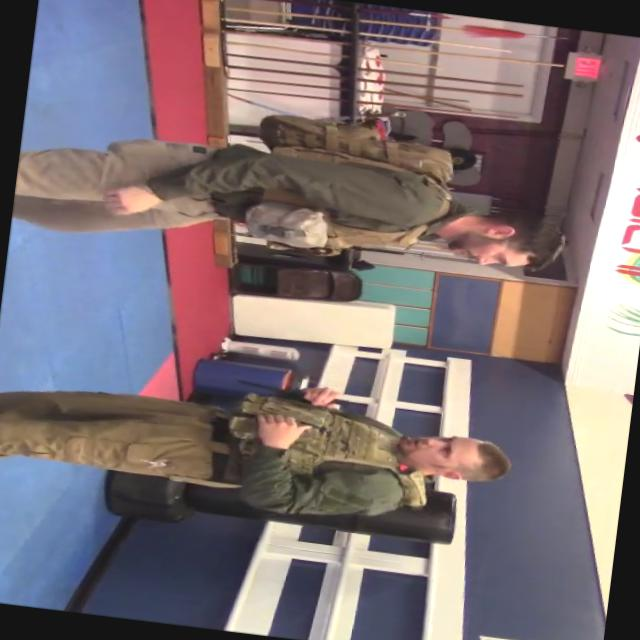knife: (231, 372, 357, 412)
